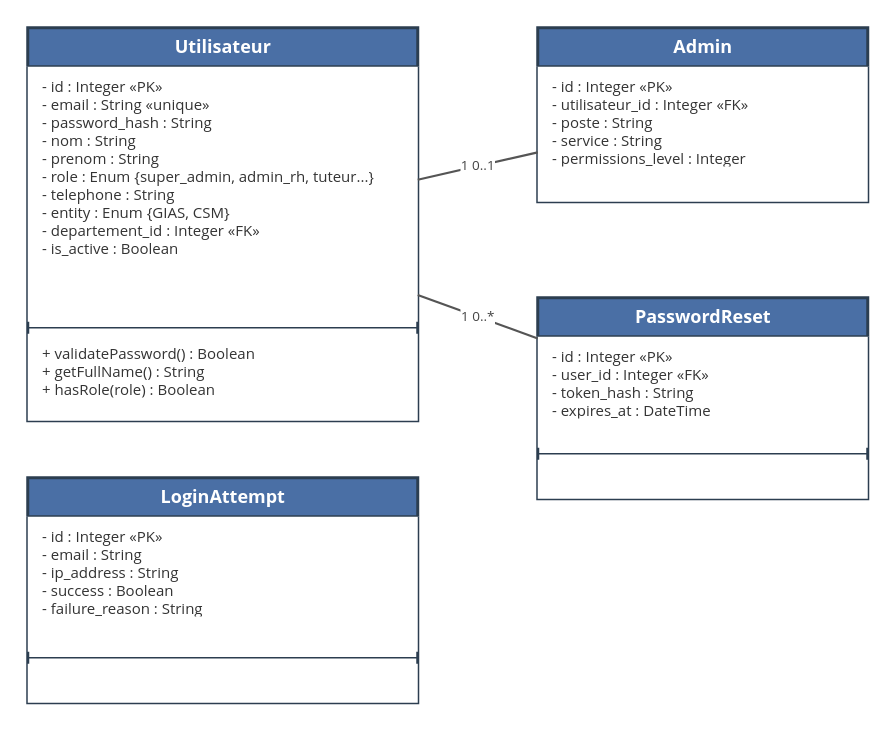
This 894x732 diagram has some shape labels left out. The centre of each missing label's shape, as x and y in pixels:
+ isValid() : Boolean: the point at 702,478
+ record() : void: the point at 222,682
